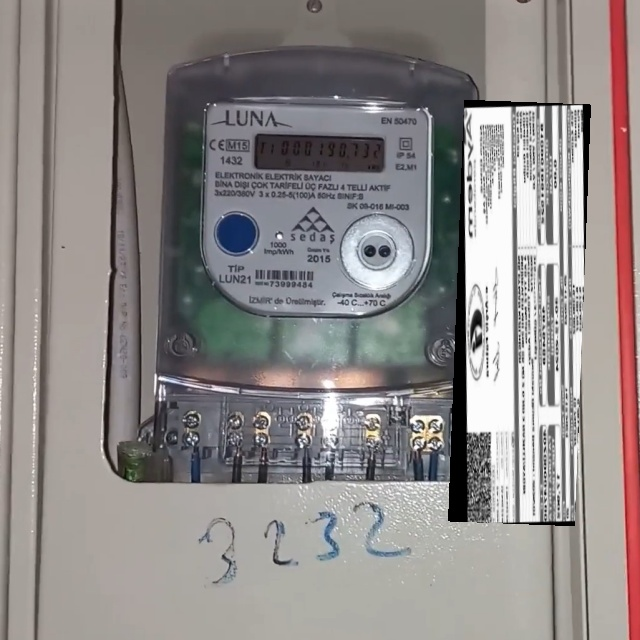electricity-bill: (447, 99, 590, 525)
